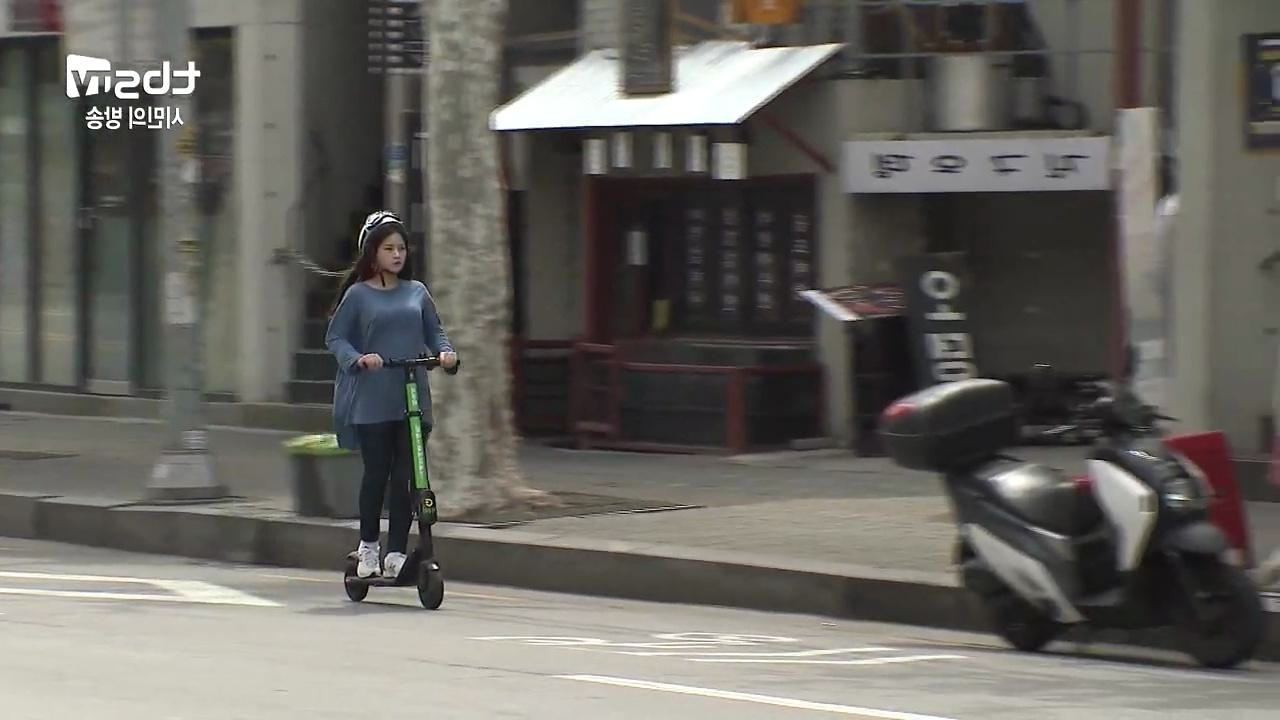helmet: (325, 208, 460, 613)
